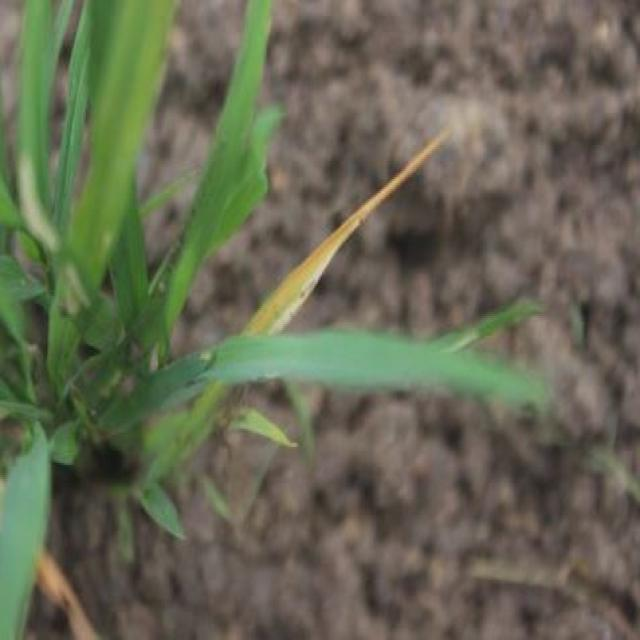Tungro: (260, 125, 454, 338)
